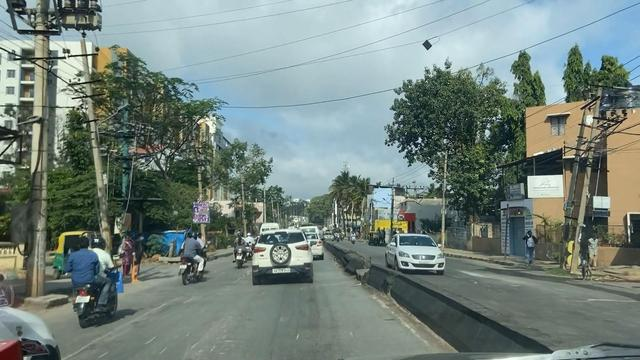LMV: (68, 239, 117, 321), (252, 231, 311, 284), (175, 231, 207, 283)
RoadDamages: (71, 293, 191, 355)
